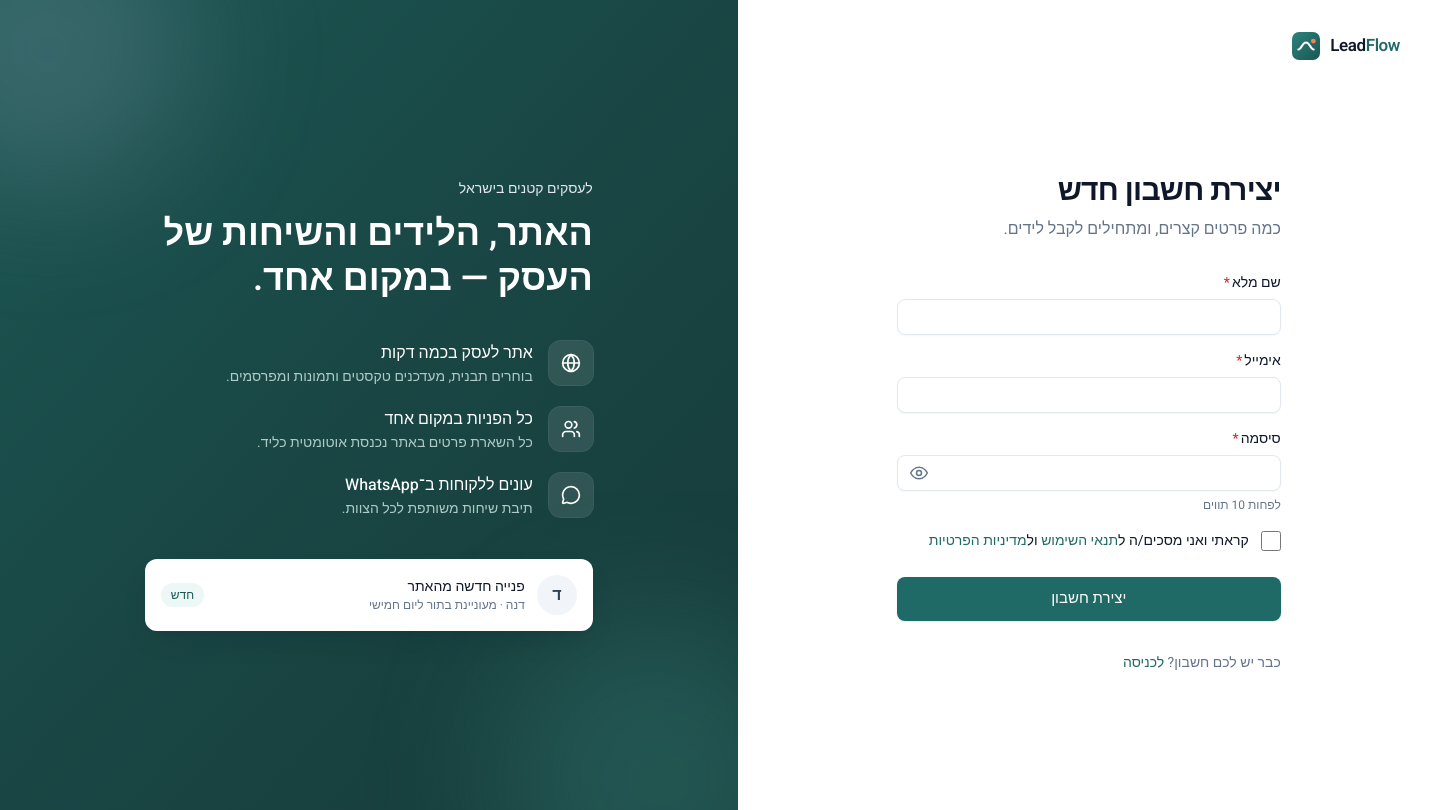
RegisterPage › maps a 409 onto the email field
Expected: the button "יצירת חשבון" is shown, [897,576,1281,620]
Type "דנה כהן" into the field labelled "שם מלא*".
click(1089, 316); type("דנה כהן")  # box [897,298,1281,334]
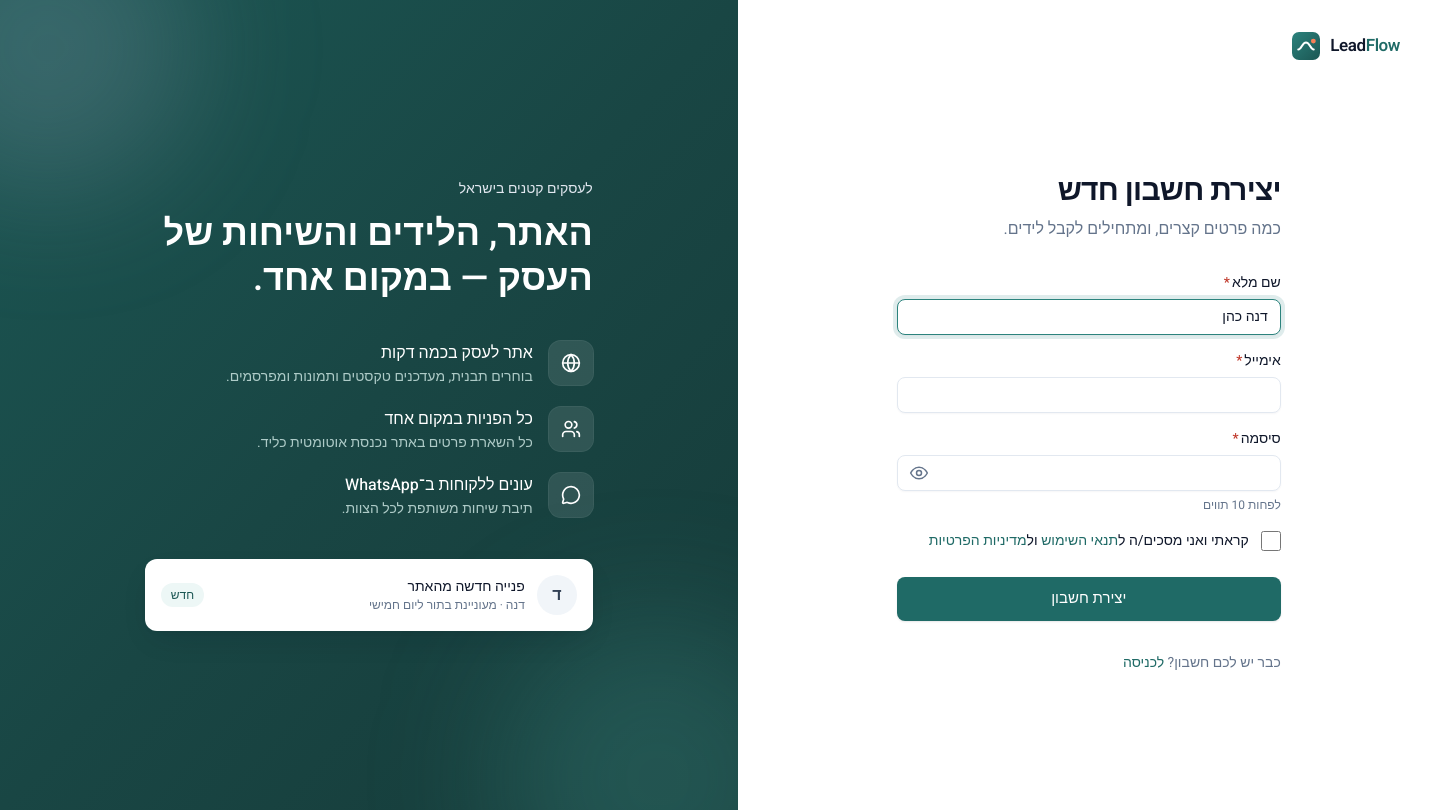
Type "dana@example.com" into the field labelled "אימייל*".
click(1089, 394); type("dana@example.com")  # box [897,376,1281,412]
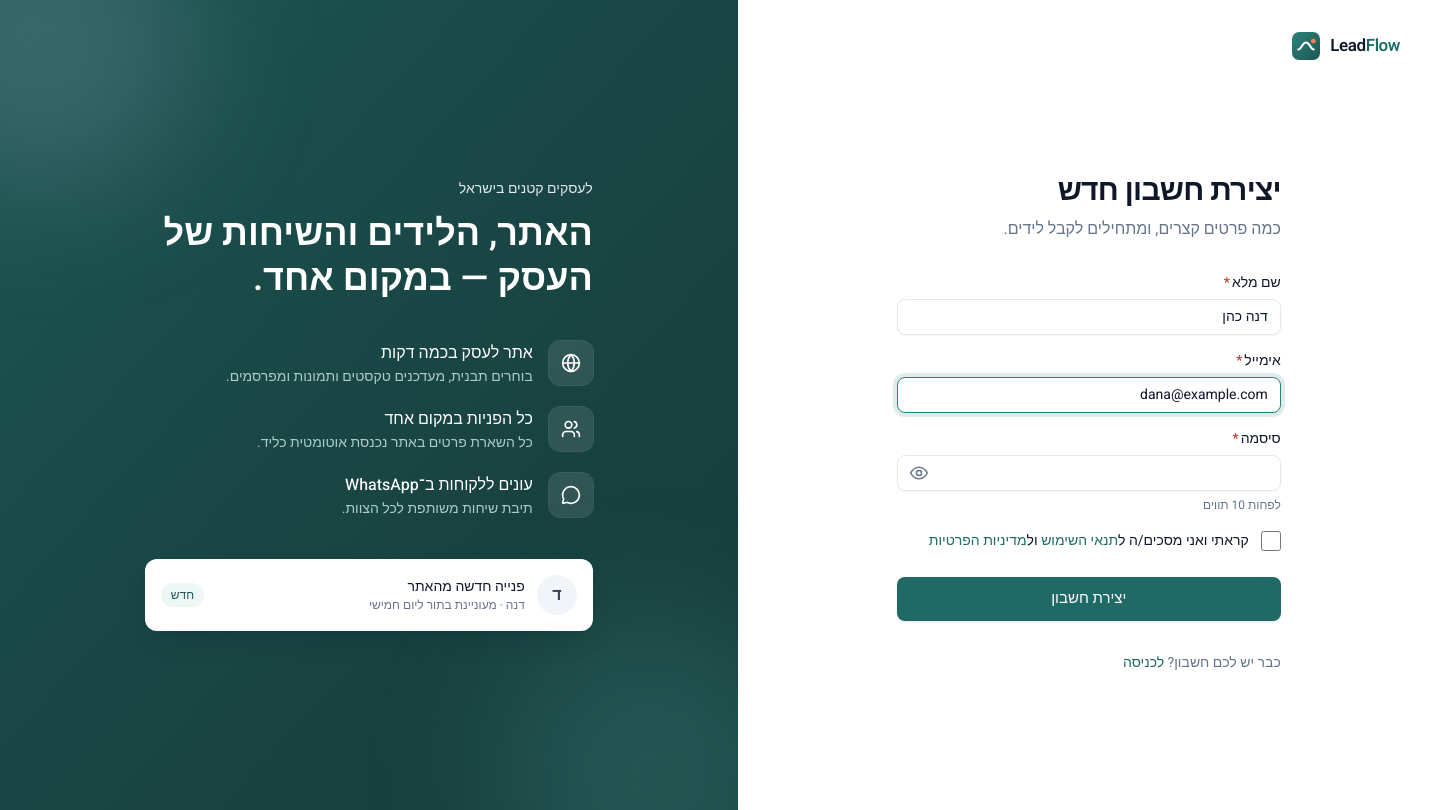
Type "a-strong-password" into the password field labelled "סיסמה*".
click(1089, 472); type("a-strong-password")  # box [897,454,1281,490]
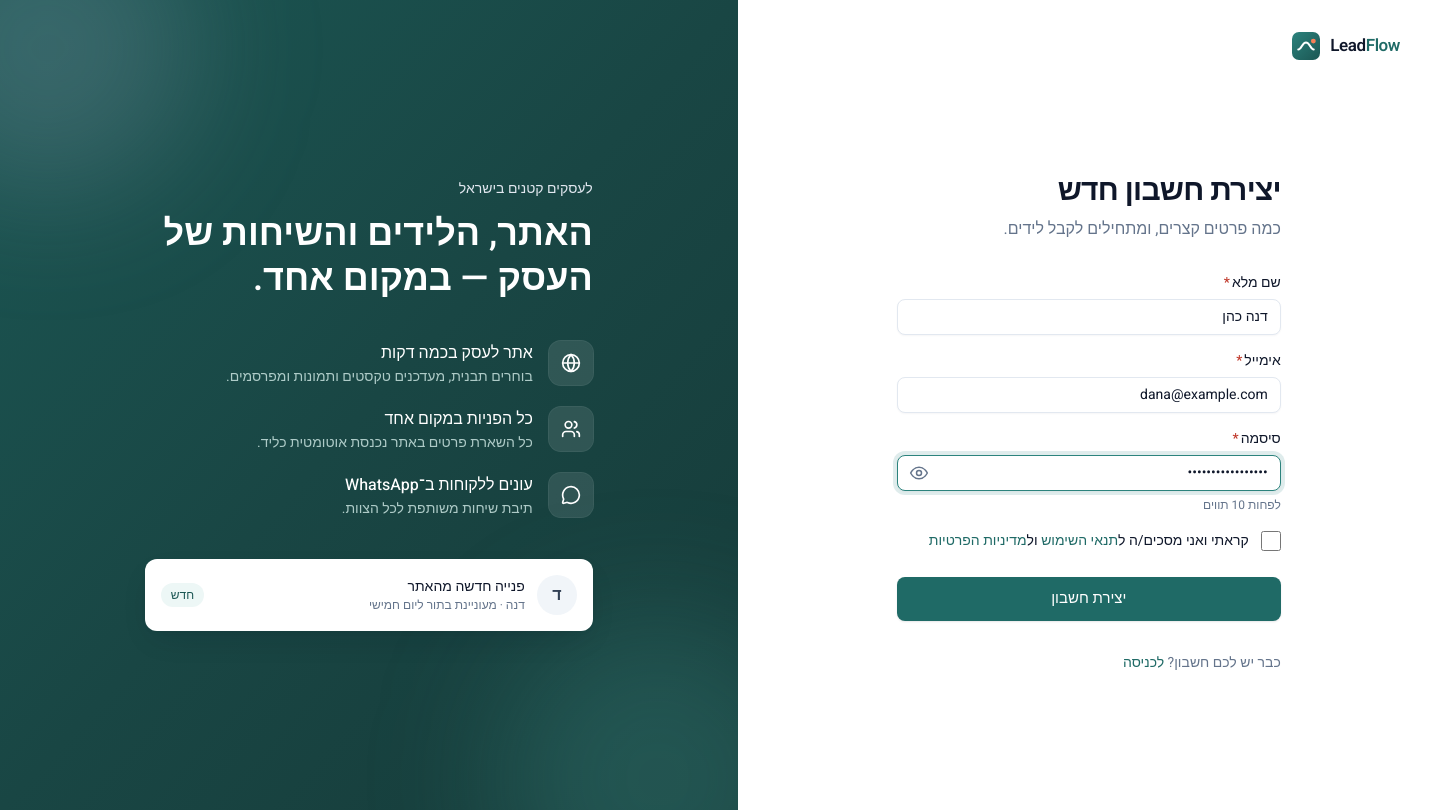
Click the checkbox.
click(1271, 540)  # box [1261,530,1281,550]
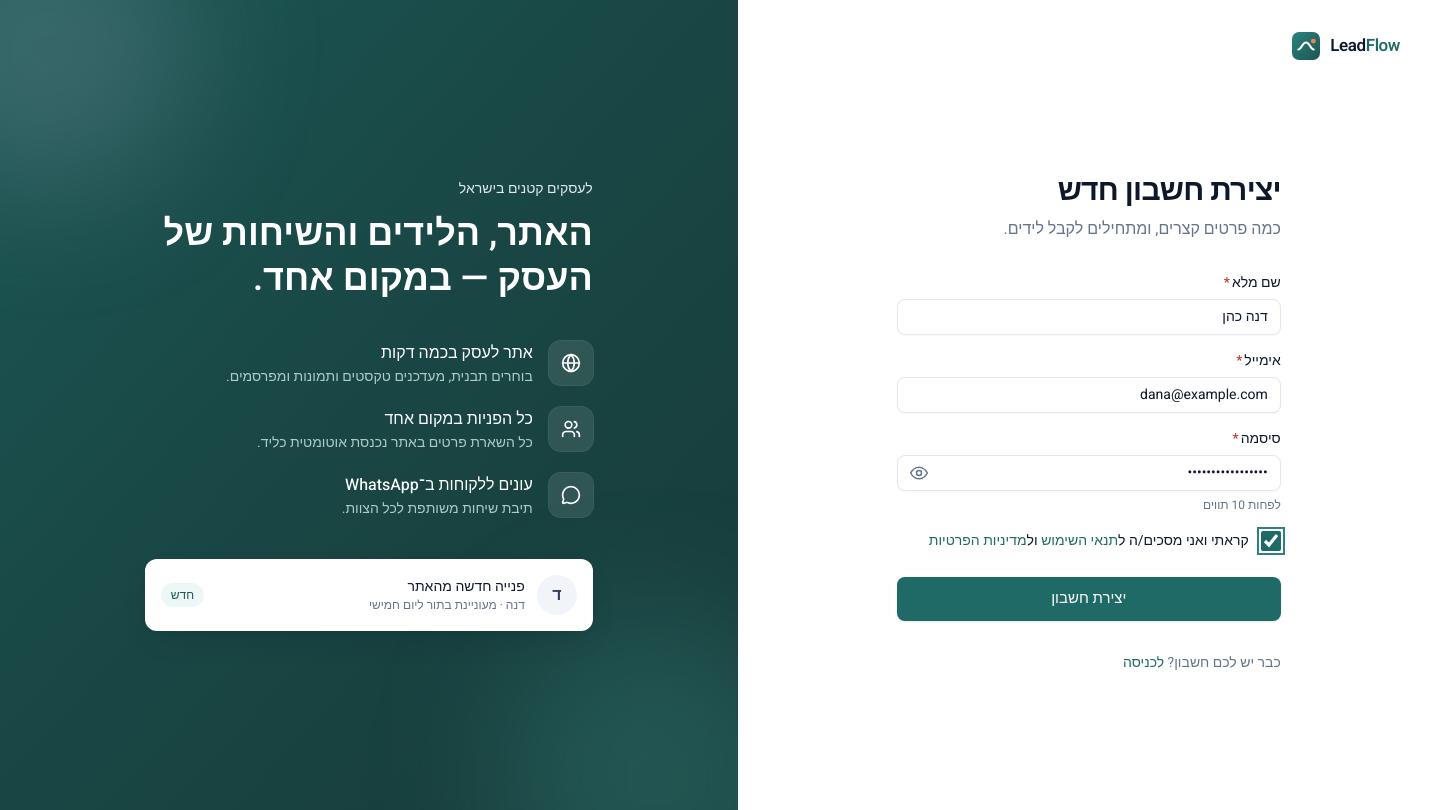
Click the button "יצירת חשבון".
click(1089, 598)  # box [897,576,1281,620]
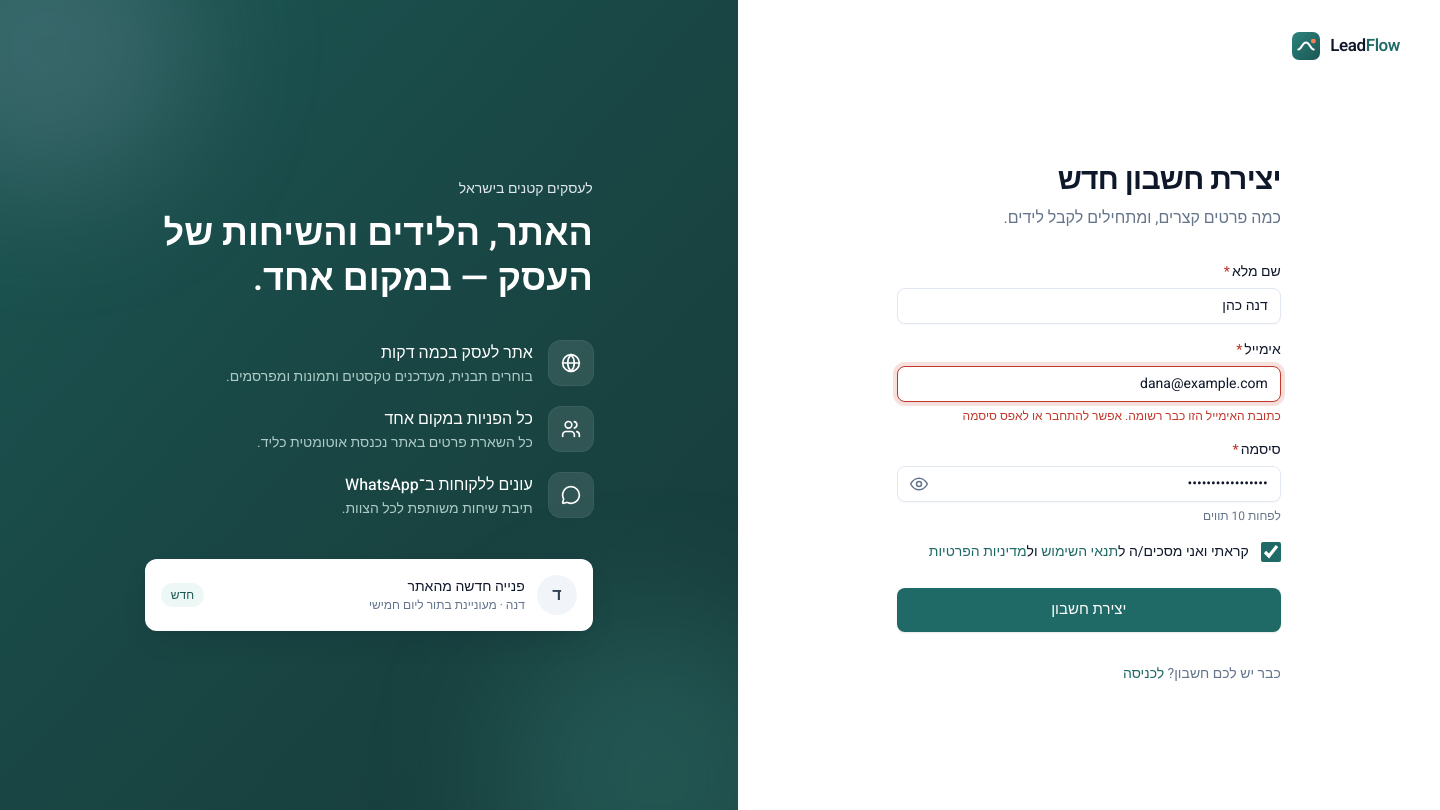
Now the text "כתובת האימייל הזו כבר רשומה. אפשר להתחבר או לאפס סיסמה" is shown, box [963,406,1281,424]
